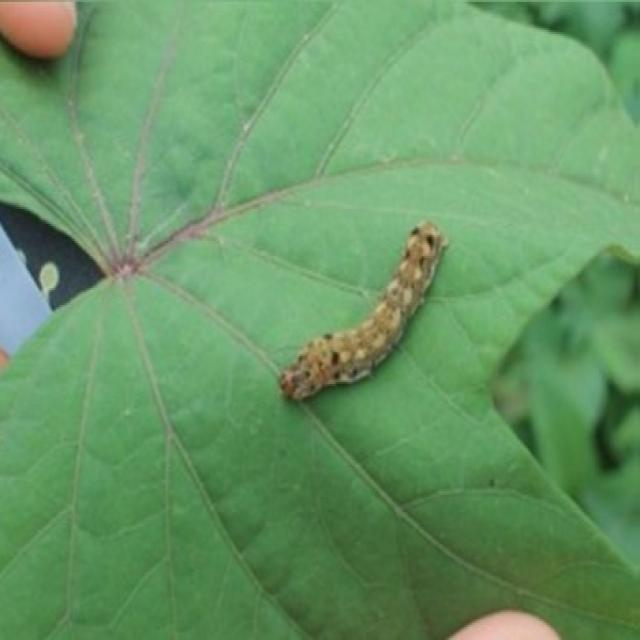Armyworm: (260, 211, 455, 435)
